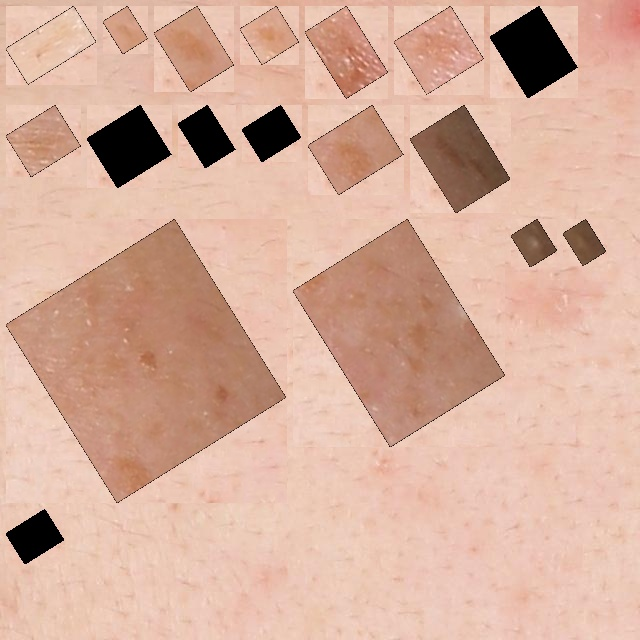melasma: (17, 230, 275, 492), (304, 230, 494, 436), (421, 116, 499, 202), (319, 116, 392, 183), (501, 17, 566, 87), (405, 17, 473, 83), (316, 17, 377, 87), (17, 17, 85, 73), (98, 116, 160, 177), (165, 17, 223, 81), (17, 116, 70, 165), (189, 116, 224, 157), (251, 17, 288, 53), (253, 116, 290, 151), (17, 520, 53, 553), (114, 17, 137, 43)
pustule: (522, 230, 546, 256), (574, 230, 595, 255)
